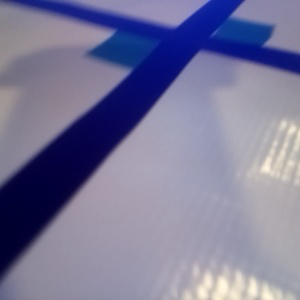bottom_left: (88, 29, 182, 69)
top_right: (189, 16, 274, 49)
